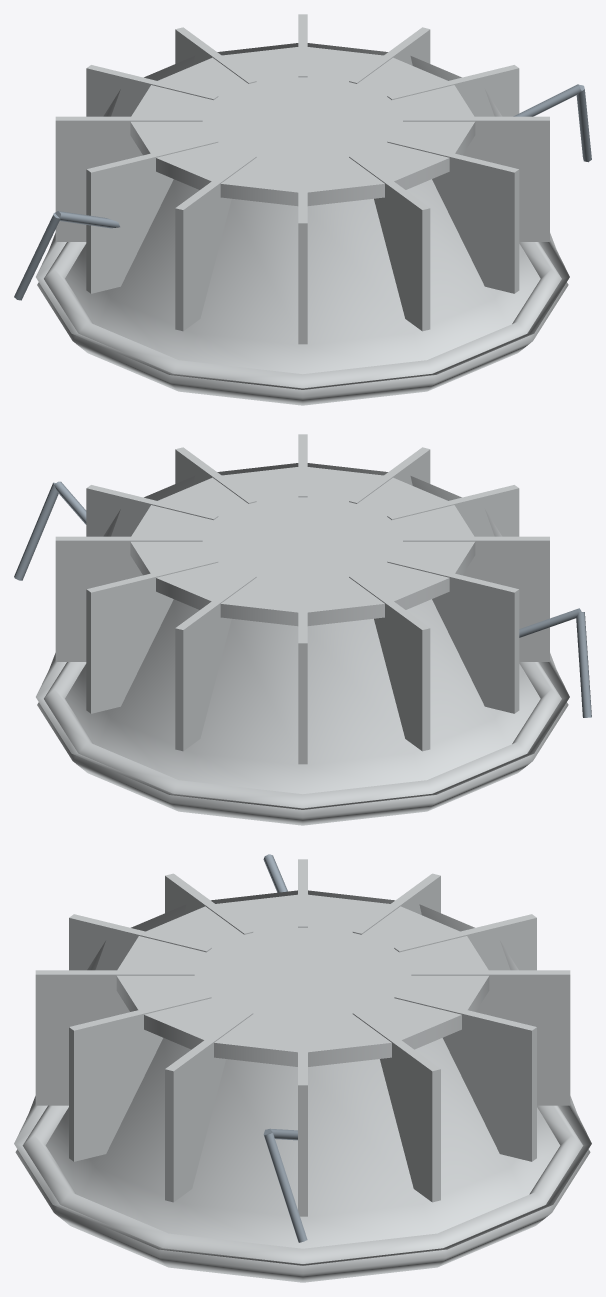
File: source.glb
The picture shows the model from 3 angles, top to bottom: view 1: azimuth 30°, elevation 25°; view 2: azimuth 150°, elevation 25°; view 3: azimuth 270°, elevation 25°; orthographic projection. The views are drawn at different scales.
Visible parts, largest first — view 1: 粉末涂层铝壳, 机加工金属; view 2: 粉末涂层铝壳, 机加工金属; view 3: 粉末涂层铝壳, 机加工金属.
Boxes of the visible parts, <box> form: 粉末涂层铝壳: <box>36,14,569,405</box>; 机加工金属: <box>14,84,591,300</box>; 粉末涂层铝壳: <box>36,434,569,825</box>; 机加工金属: <box>14,481,591,717</box>; 粉末涂层铝壳: <box>14,859,591,1282</box>; 机加工金属: <box>263,854,307,1242</box>.
Bounding box in the file's own units: 0.1496 × 0.0451 × 0.12.
